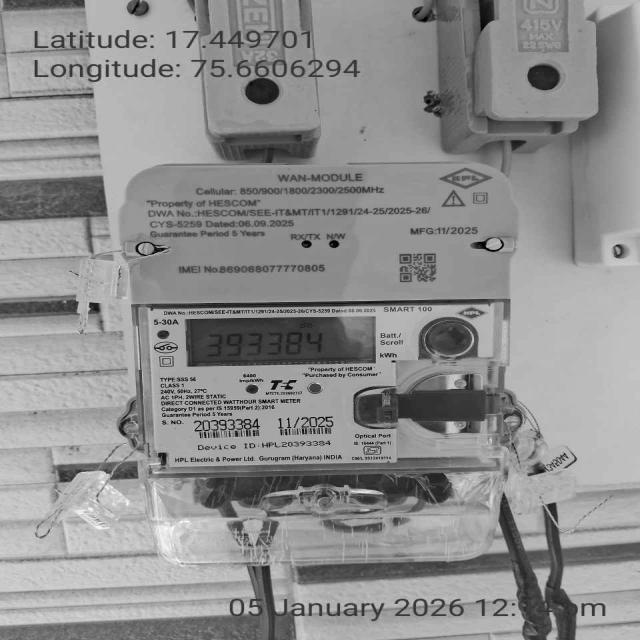meter: (120, 165, 513, 461)
